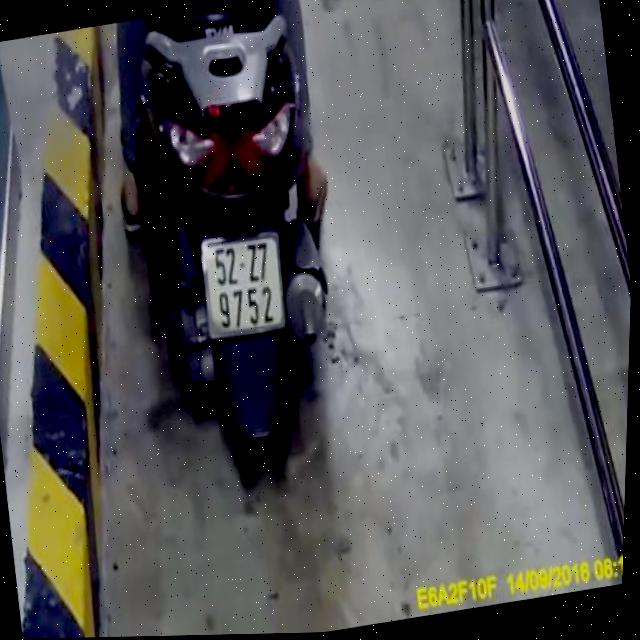motorcycle: (90, 0, 378, 485)
plate: (189, 222, 296, 347)
